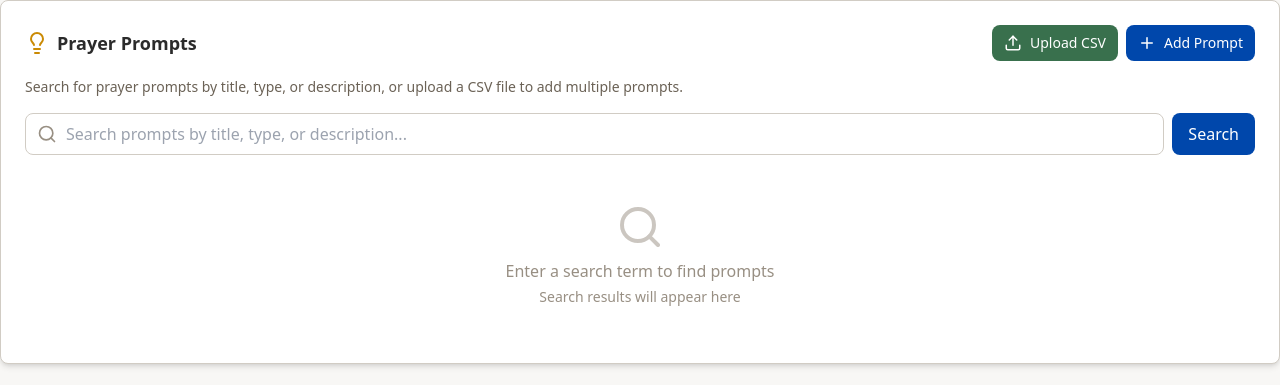
Test: PromptManager Component › Edit Prompt Functionality › shows edit button for each prompt
In the field with placeholder "Search prompts by title, type, or description...": [595, 134] box [25, 113, 1164, 155], type "Test"
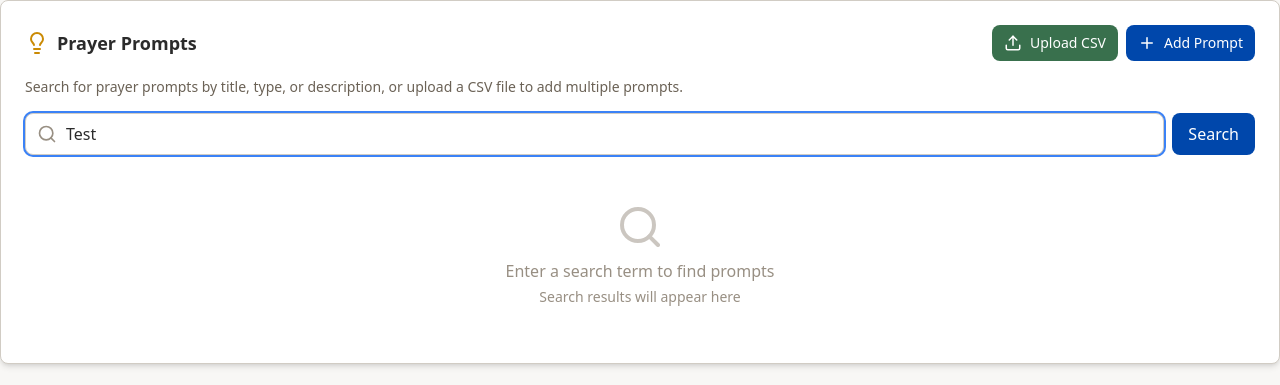
Click the button "Search": [1214, 134] box [1172, 113, 1255, 155]
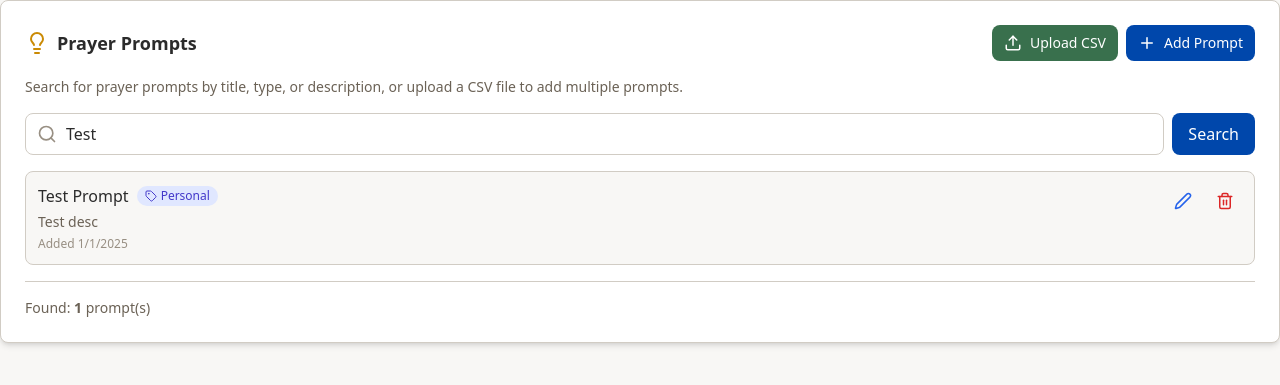
Result: the heading "Test Prompt" is shown at [38, 184, 129, 208]
